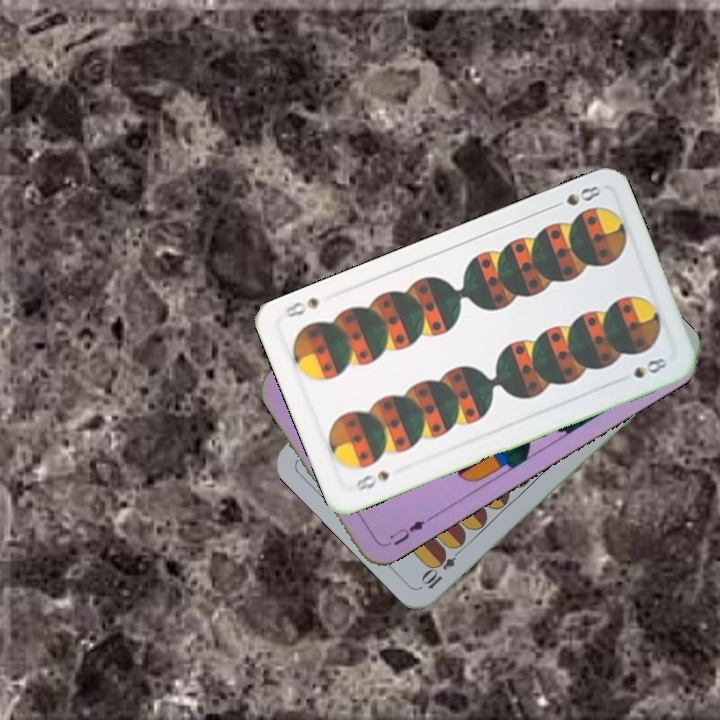E10: (418, 542, 466, 592)
EU: (379, 513, 433, 550)
S8: (546, 181, 604, 212), (351, 466, 393, 494)
